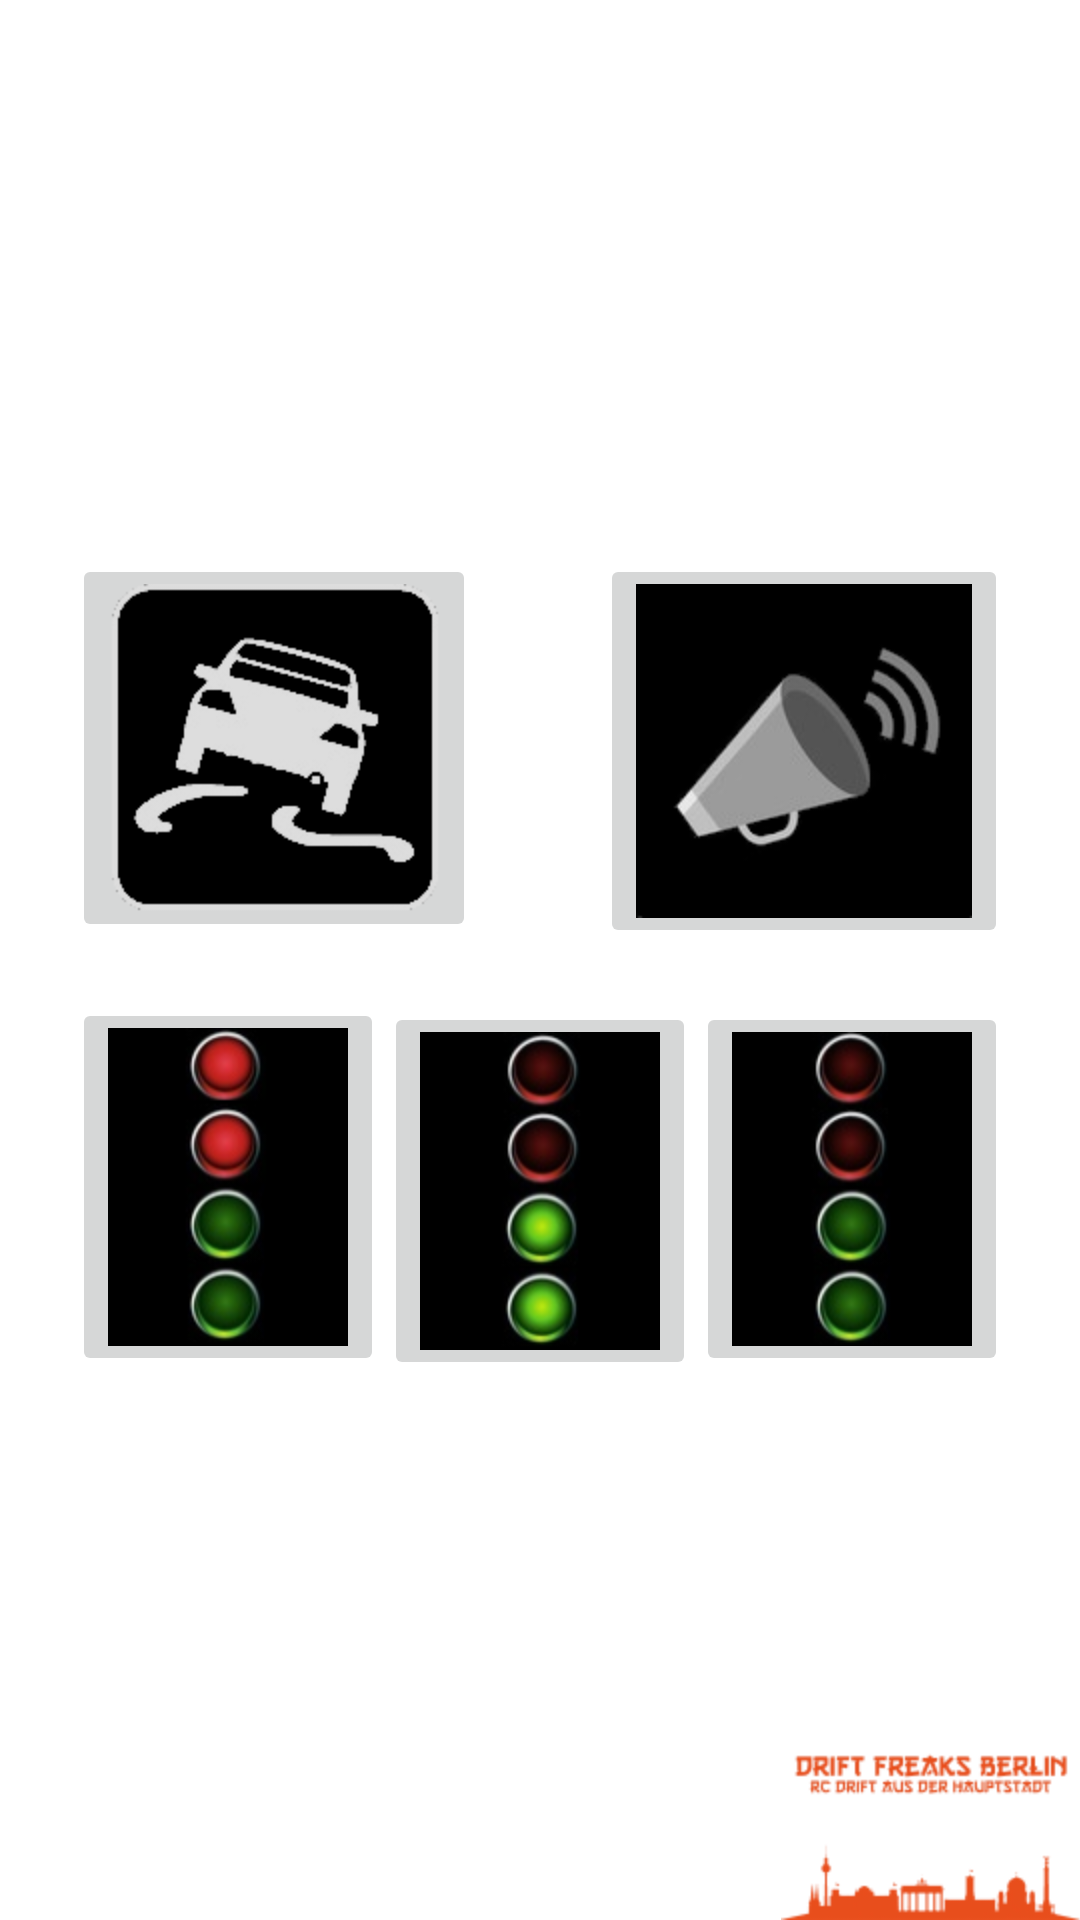

Where to tap for icons on this 1080x1920 app screen, as (x,y):
green: (540,1191)
off: (852,1189)
red: (228,1187)
